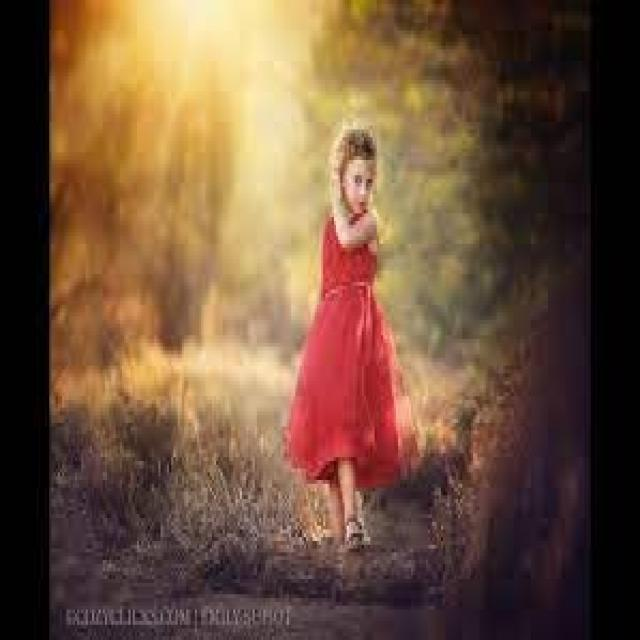Edited images: (287, 113, 418, 563)
